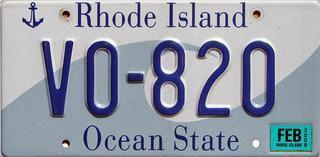placa de veiculo: (15, 3, 315, 156)
